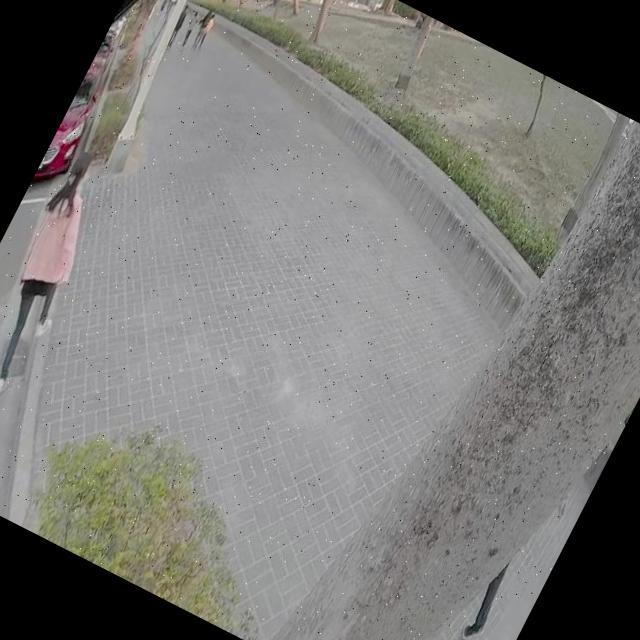person: (0, 147, 128, 399), (166, 5, 192, 49), (189, 7, 216, 48), (195, 13, 220, 51), (178, 9, 202, 46)
